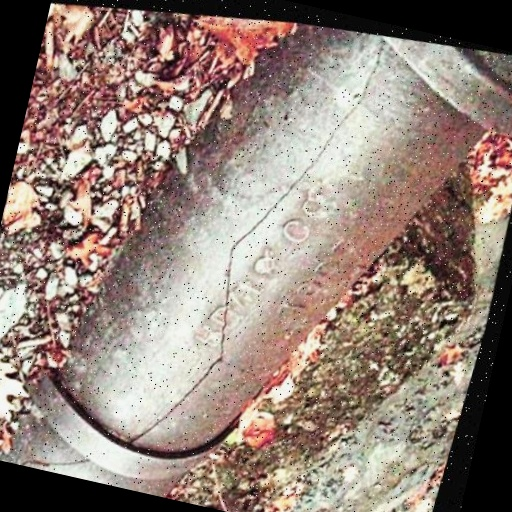crack: (0, 206, 285, 512), (96, 143, 356, 342)
